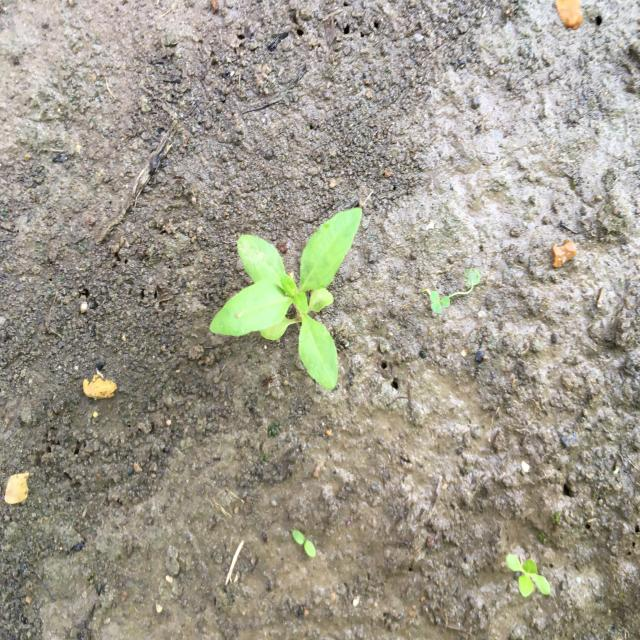Eclipta: (208, 204, 364, 393)
